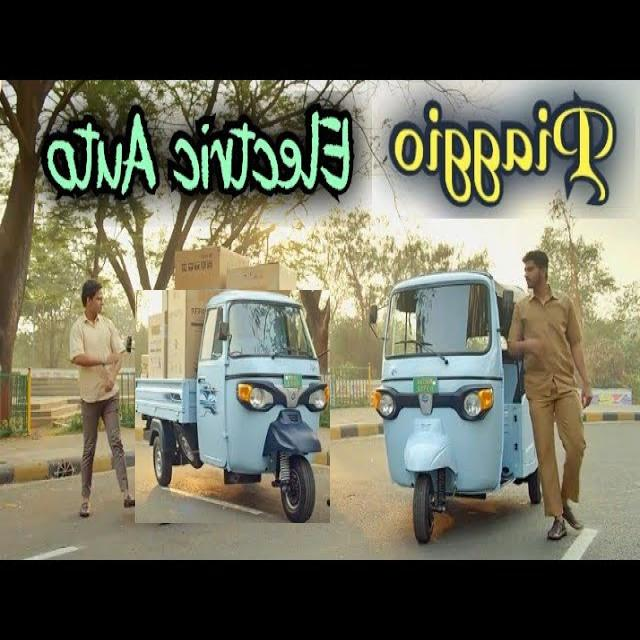autorickshaw: (135, 290, 330, 523), (374, 272, 540, 541)
